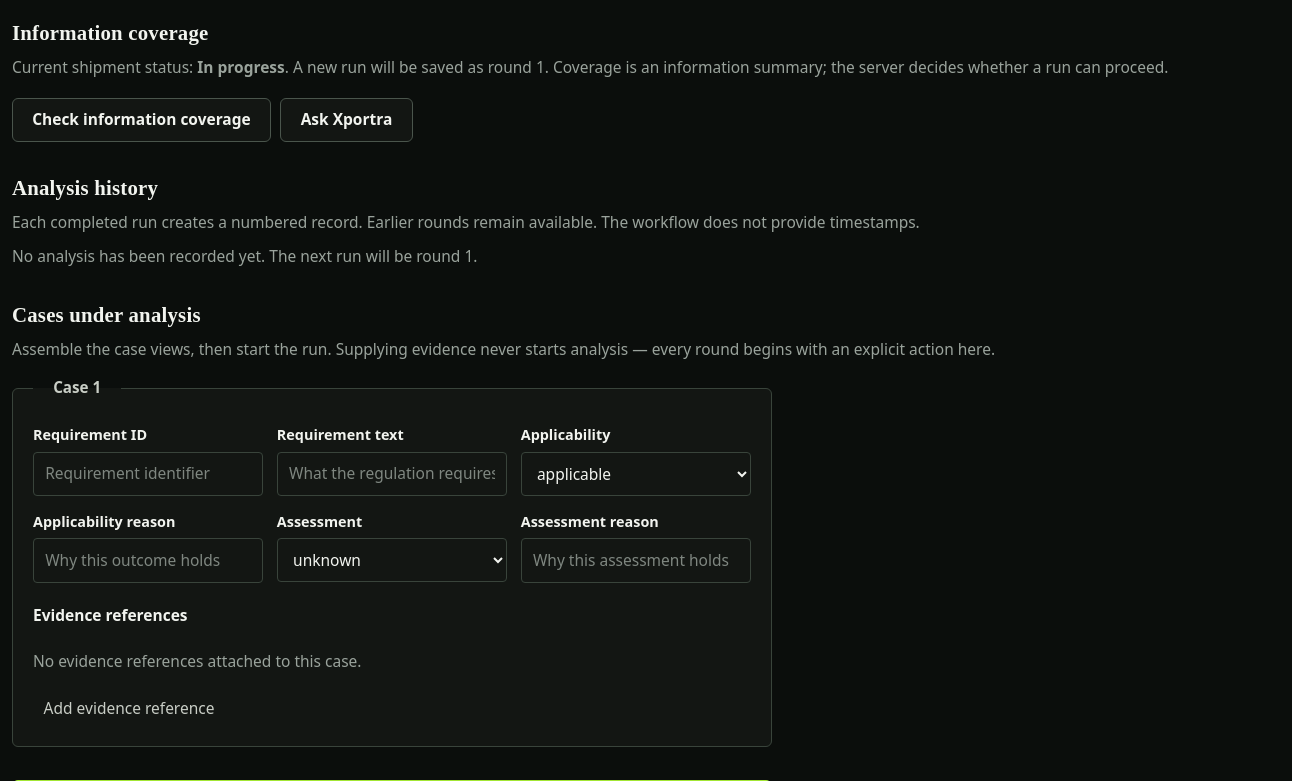
Test: AnalysisPage › preserves usable state and surfaces backend failure
The width and height of the screenshot is (1292, 781).
Type "req-1" into the field labelled "Requirement ID" at (148, 474), box [33,452,263,496]
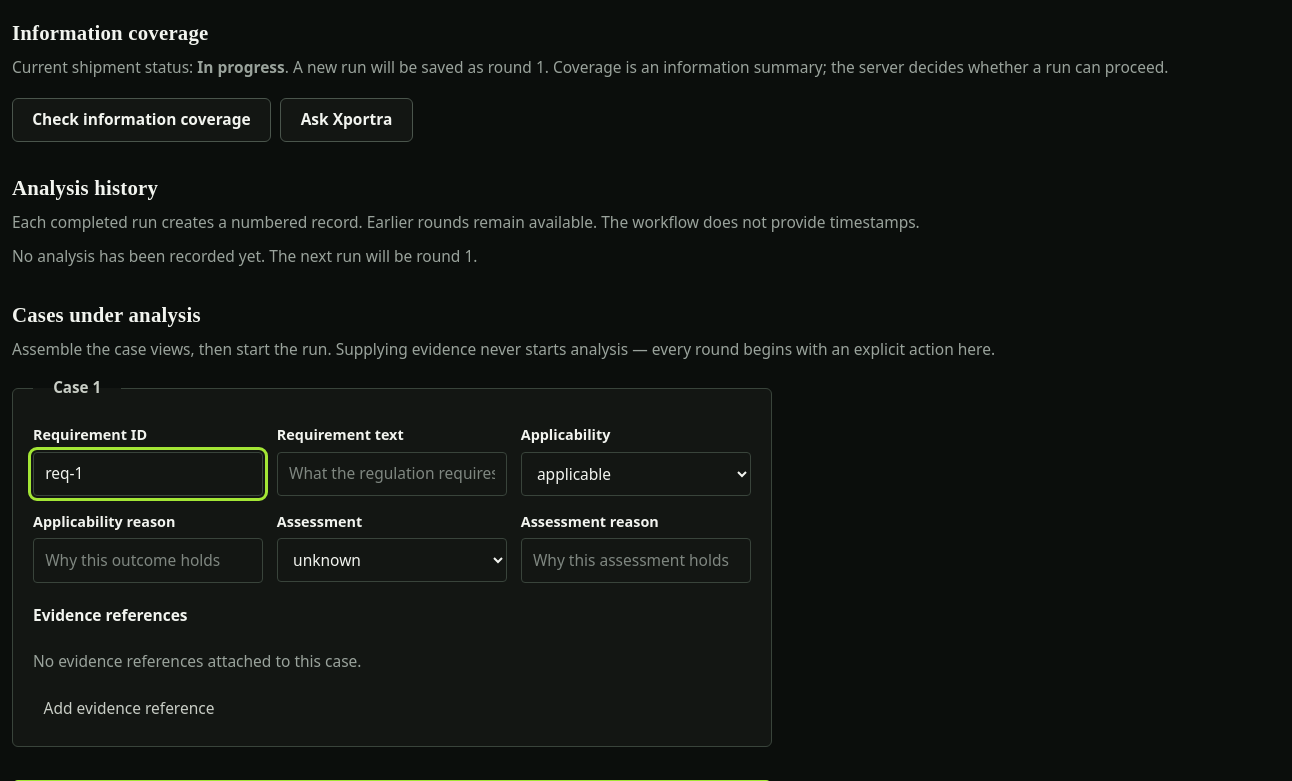
Type "File form X." into the field labelled "Requirement text" at (392, 474), box [277,452,507,496]
(page scrolled)
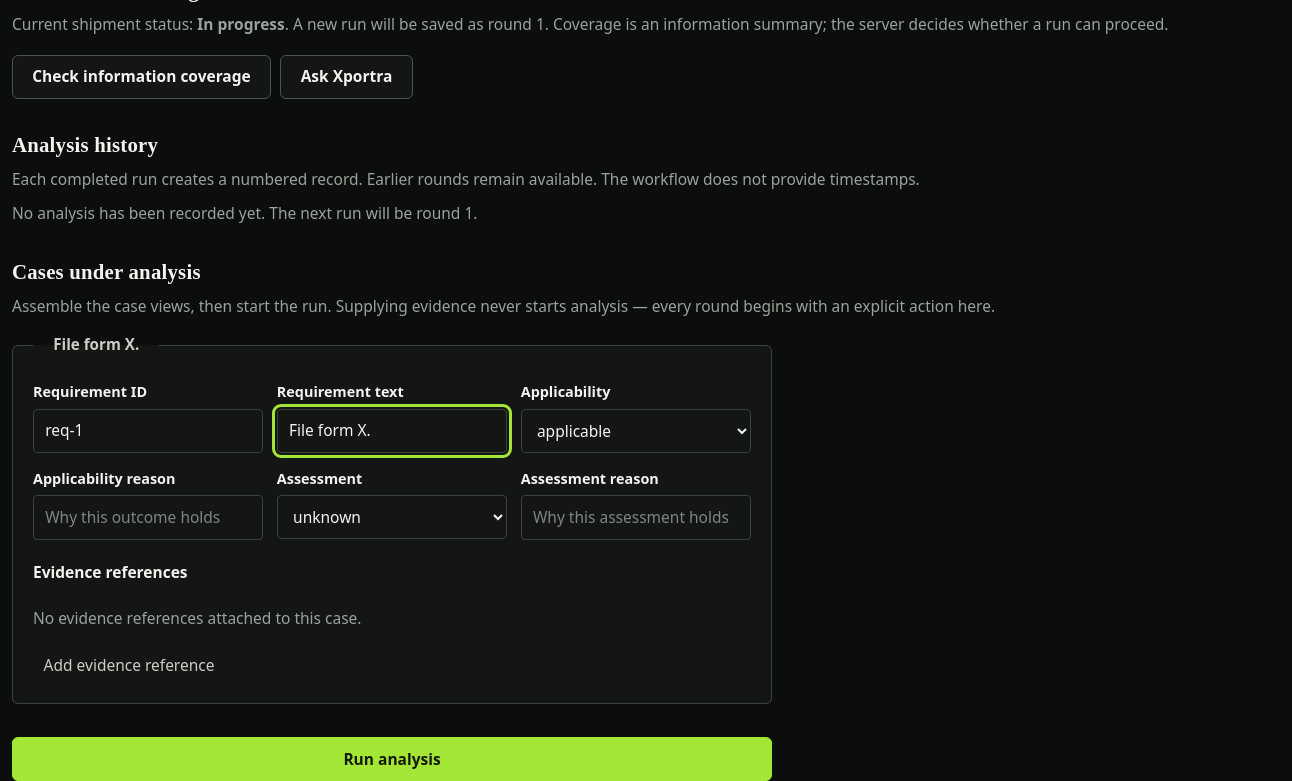
Click the button "Run analysis" at (392, 760), box [12,738,772,780]
(page scrolled)
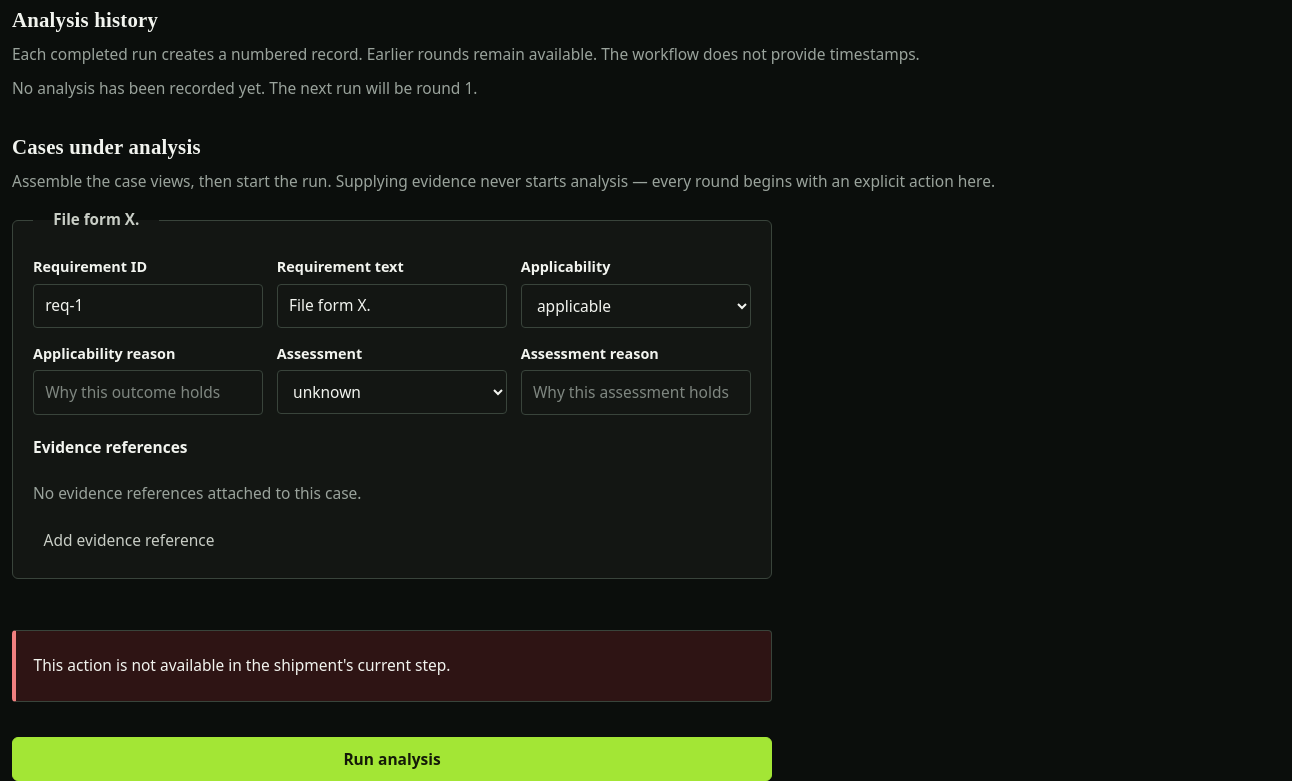
Check: the text "This action is not available in the shipment's current step." is shown, box [34,654,450,676]
